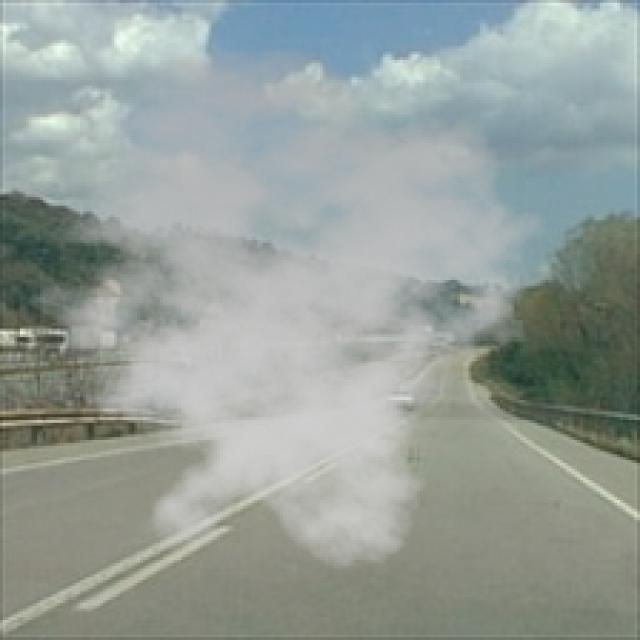smoke: (0, 46, 560, 571)
